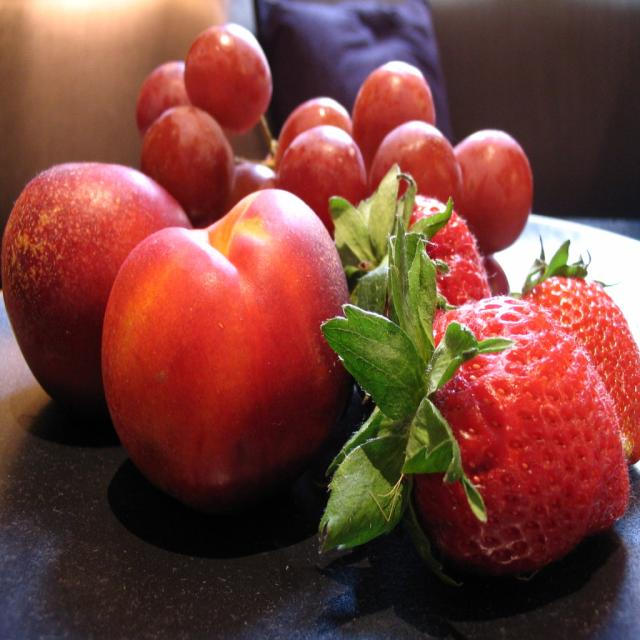Peach: (101, 188, 349, 506), (2, 160, 190, 406)
